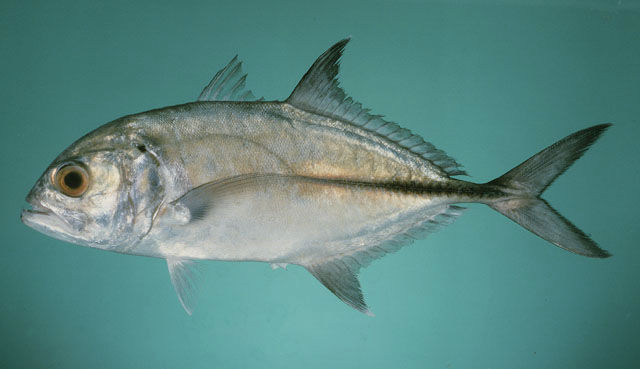fish: (20, 36, 618, 315)
